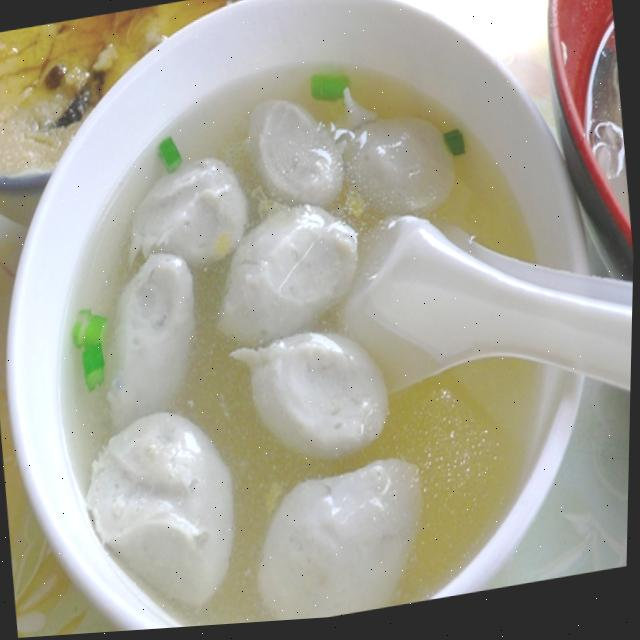熟制海鲜: (0, 0, 600, 640)
